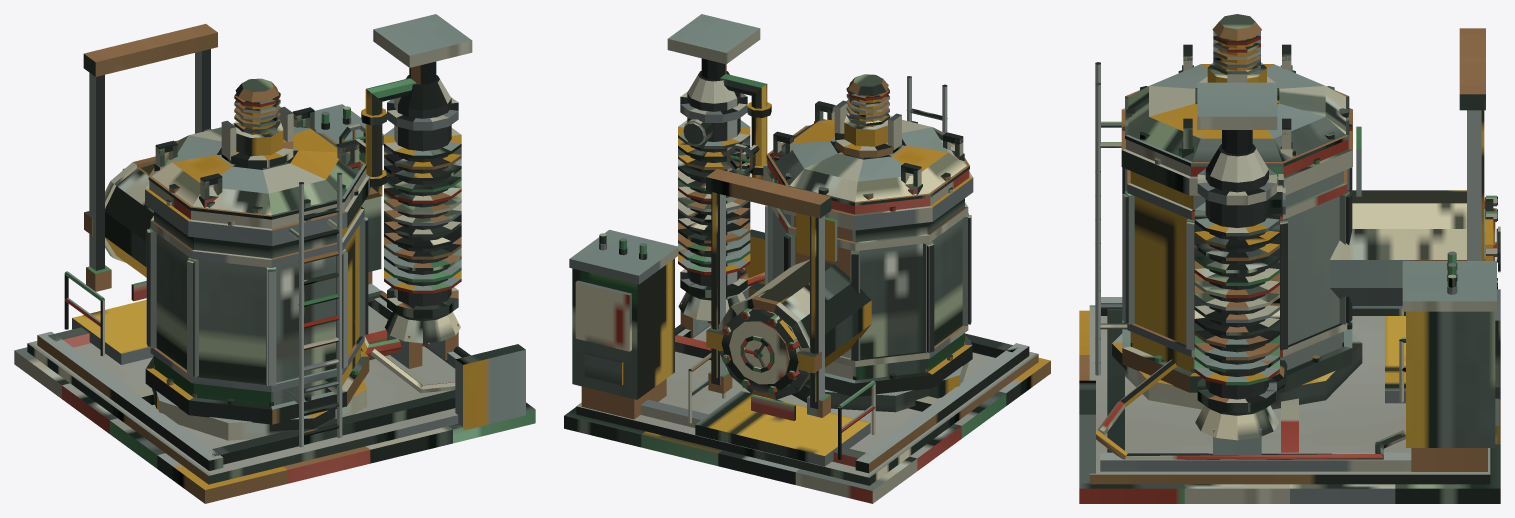
File: irradiation_reactor.obj
3 renders of one model, left to right at view 1: azimuth 30°, elevation 25°; view 2: azimuth 150°, elevation 25°; view 3: azimuth 270°, elevation 25°, orthographic. The views are drawn at different scales.
Visible parts, largest first — view 1: shield_rear, foundation, vessel_lid, bands_rear, cooling_tower, cooling_fins, base_frame, door_guides, access_ladder, ku_port, ribs_rear, loading_lock (+11 smaller); view 2: foundation, control_cabinet, vessel_lid, shield_front, door_guides, loading_lock, base_frame, service_deck, cooling_tower, cooling_fins, bands_front, door_panel (+19 smaller); view 3: foundation, control_cabinet, vessel_lid, cooling_tower, cooling_fins, loading_lock, shield_rear, base_frame, shield_front, bands_rear, door_guides, bands_front (+14 smaller).
Boxes of the visible parts, <box> form: shield_rear: <box>154,207,360,405</box>; foundation: <box>14,305,535,503</box>; vessel_lid: <box>148,126,366,228</box>; bands_rear: <box>145,174,369,424</box>; cooling_tower: <box>384,75,460,368</box>; cooling_fins: <box>384,127,461,293</box>; base_frame: <box>37,283,461,470</box>; door_guides: <box>83,24,217,291</box>; access_ladder: <box>284,172,342,447</box>; ku_port: <box>455,344,525,430</box>; ribs_rear: <box>187,217,368,385</box>; loading_lock: <box>105,156,155,277</box>; foundation: <box>564,325,1050,503</box>; control_cabinet: <box>569,229,678,419</box>; vessel_lid: <box>766,119,969,214</box>; shield_front: <box>773,209,927,379</box>; door_guides: <box>706,169,831,417</box>; loading_lock: <box>718,259,871,399</box>; base_frame: <box>640,277,1029,473</box>; service_deck: <box>695,391,870,466</box>; cooling_tower: <box>678,71,747,336</box>; cooling_fins: <box>678,120,750,274</box>; bands_front: <box>763,166,932,396</box>; door_panel: <box>706,309,821,392</box>; foundation: <box>1079,305,1500,503</box>; control_cabinet: <box>1402,261,1496,471</box>; vessel_lid: <box>1125,64,1349,176</box>; cooling_tower: <box>1195,144,1279,454</box>; cooling_fins: <box>1194,202,1279,385</box>; loading_lock: <box>1330,190,1485,308</box>; shield_rear: <box>1130,171,1281,372</box>; base_frame: <box>1100,297,1411,471</box>; shield_front: <box>1281,171,1343,370</box>; bands_rear: <box>1121,108,1285,392</box>; door_guides: <box>1459,28,1485,260</box>; bands_front: <box>1283,108,1352,392</box>.
Size of the model in its own units: 4 by 4 by 4.
